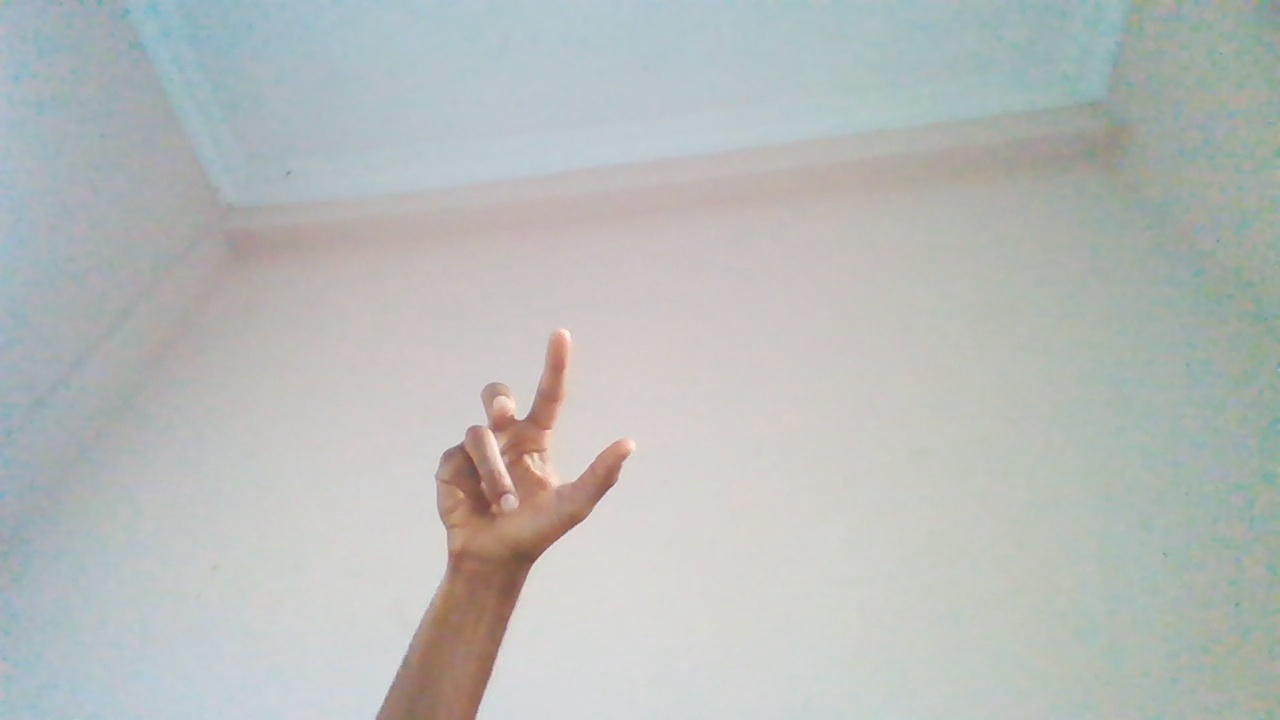hhe: (435, 327, 634, 630)
